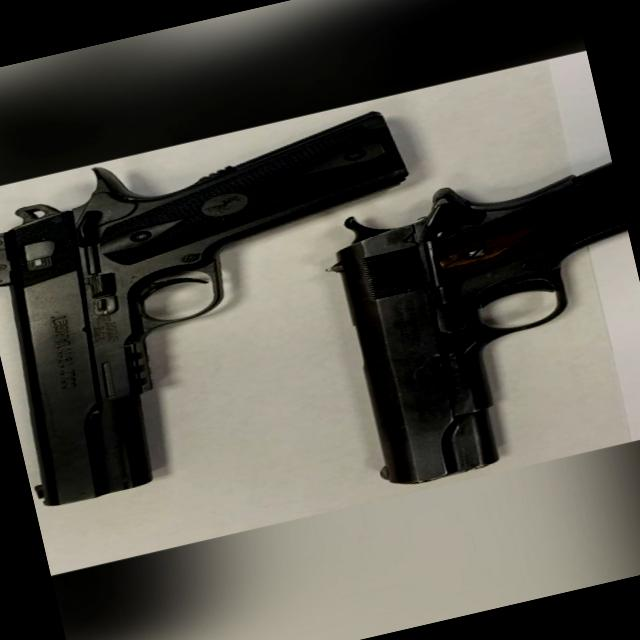handgun: (309, 141, 639, 497)
